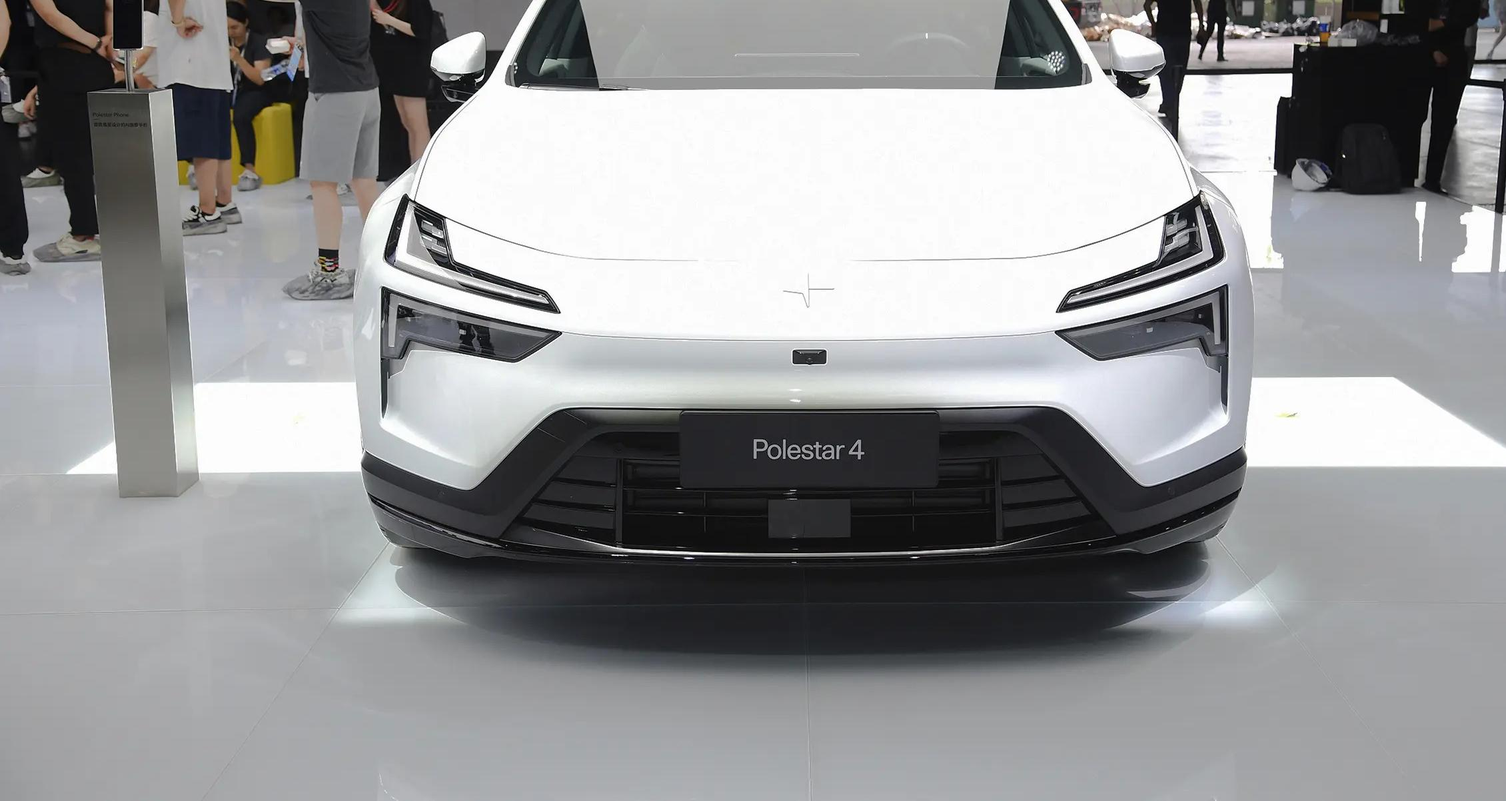Polestar: (784, 273, 834, 307)
